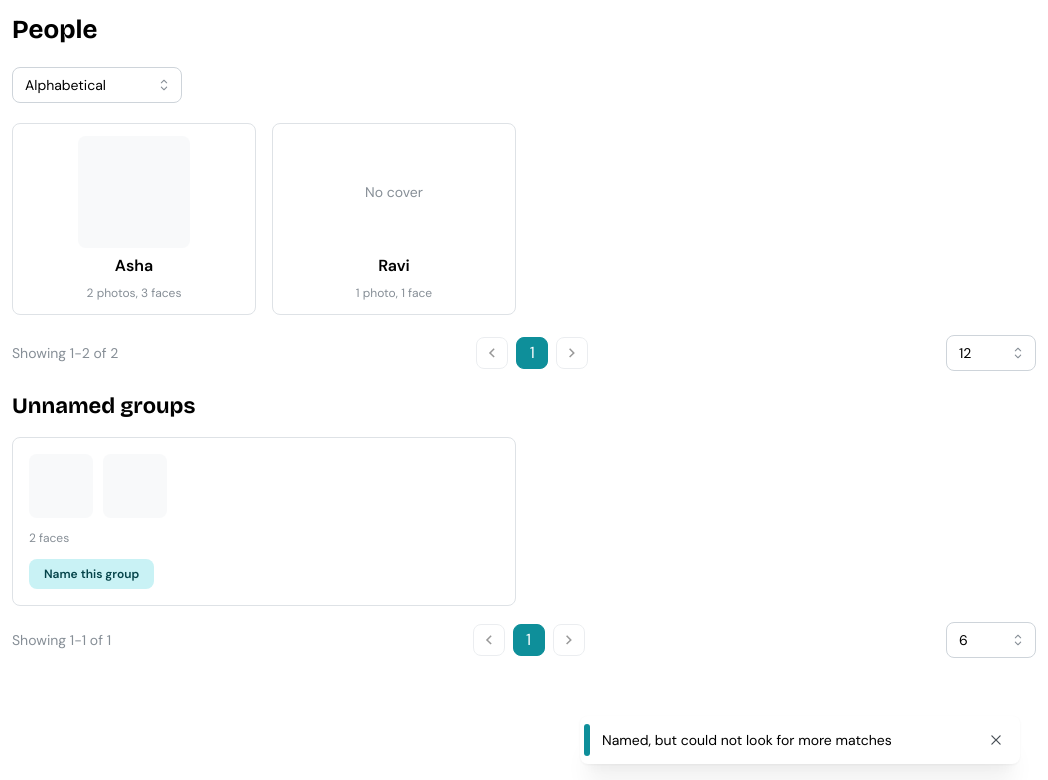
it: People › shows a friendly message for a duplicate name
The width and height of the screenshot is (1048, 780).
Click the button "Name this group". click: (92, 574)
box: [29,559,154,589]
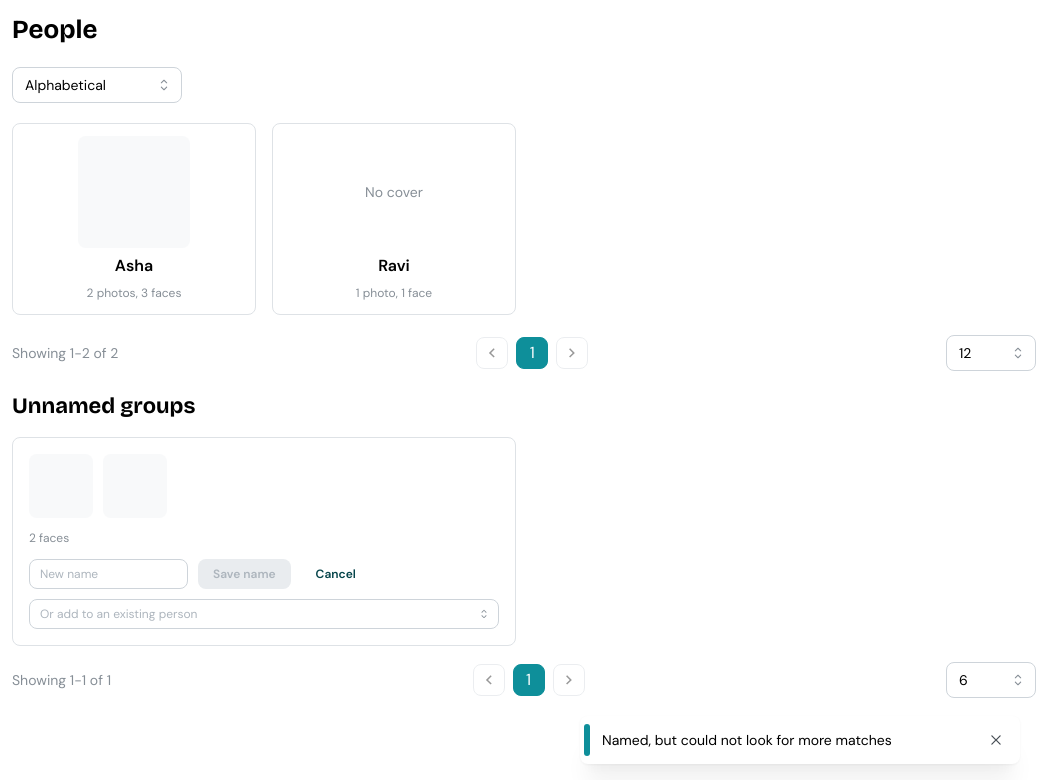
Type "Asha" into the field named "Person name". click: (108, 574)
box: [29,559,188,589]
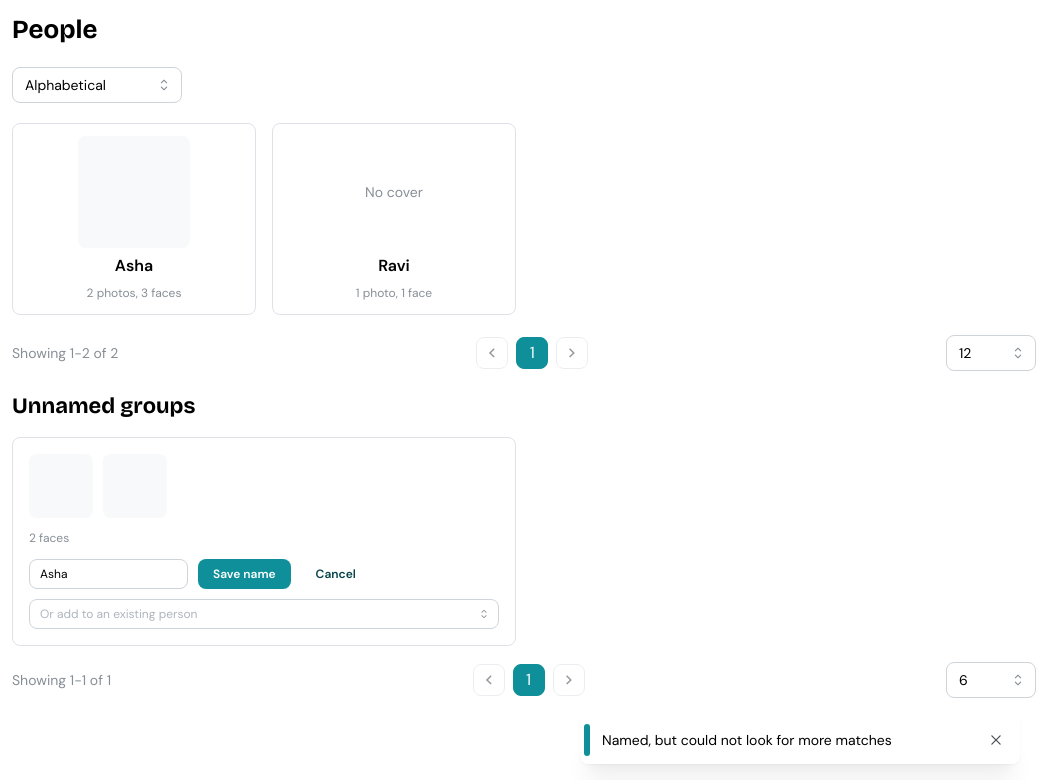
Click the button "Save name". click: (244, 574)
box: [198,559,291,589]
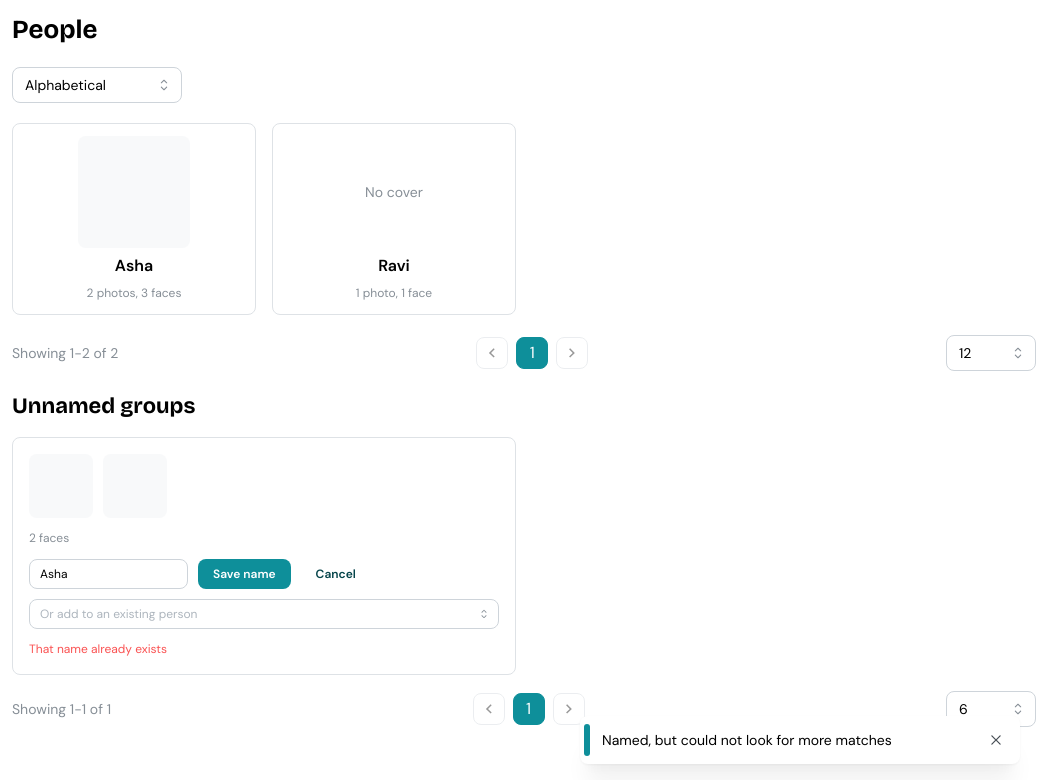
Expected: the text "That name already exists" is shown, [29,641,167,657]
